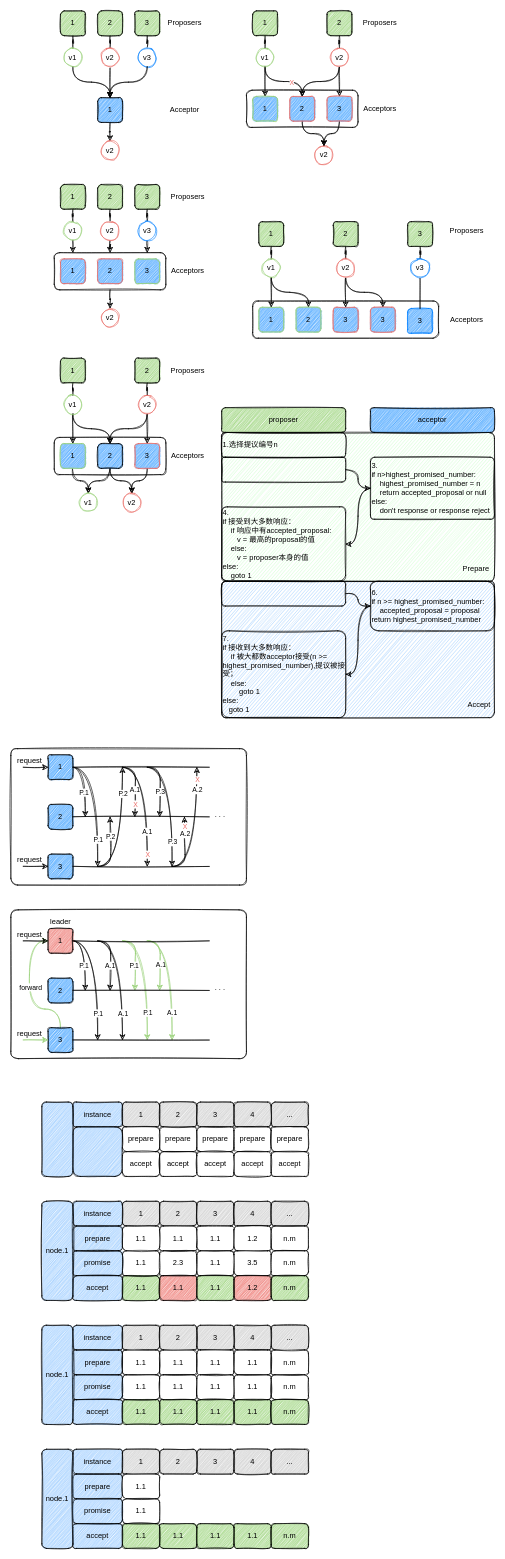
The diagram is 505 pixels wide and 1559 high, and some of its shapes have lost their labels. The centre of each missing label's shape, as x and y in pixels:
"2.发送prepare请求" goes at pixel 283 469.
"5.发送accept请求" goes at pixel 283 593.
"node" goes at pixel 57 1138.
"Paxos" goes at pixel 97 1151.
